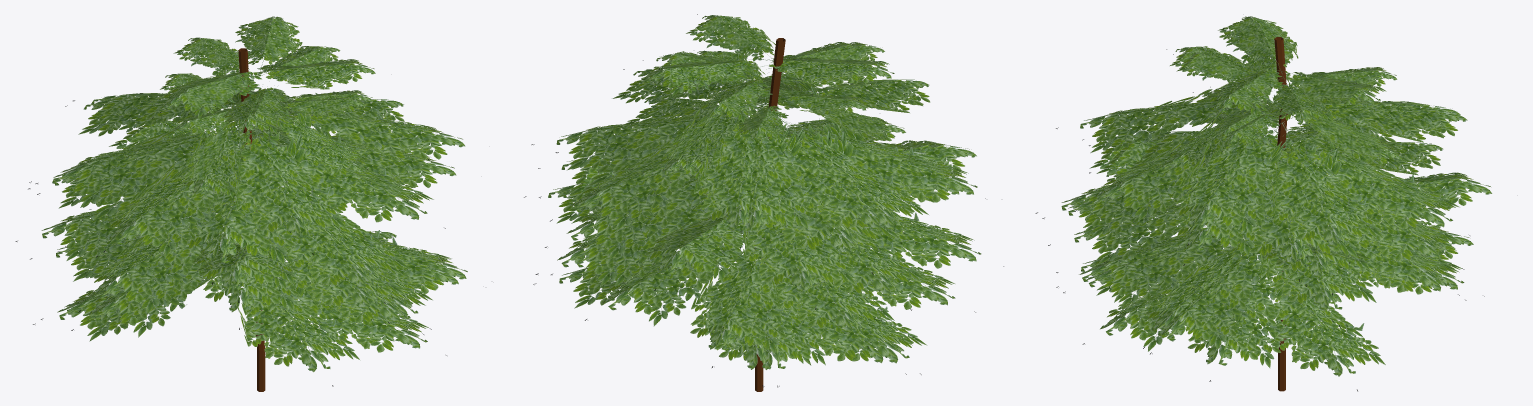
Rendered from tree.fbx.
3 views of the same model, side by side, from view 1: azimuth 30°, elevation 25°; view 2: azimuth 150°, elevation 25°; view 3: azimuth 270°, elevation 25° (orthographic). The views are drawn at different scales.
Visible parts, largest first — view 1: Cylinder.007, Cylinder; view 2: Cylinder.007, Cylinder; view 3: Cylinder.007, Cylinder.
Boxes of the visible parts, x1=… form: Cylinder.007: x1=15, y1=16, x2=467, y2=386; Cylinder: x1=238, y1=48, x2=265, y2=391; Cylinder.007: x1=524, y1=14, x2=1003, y2=387; Cylinder: x1=755, y1=38, x2=785, y2=391; Cylinder.007: x1=1035, y1=16, x2=1492, y2=391; Cylinder: x1=1274, y1=37, x2=1287, y2=391.
Bounding box in the file's own units: 657 × 525 × 674.
2 materials, 1 textured.
